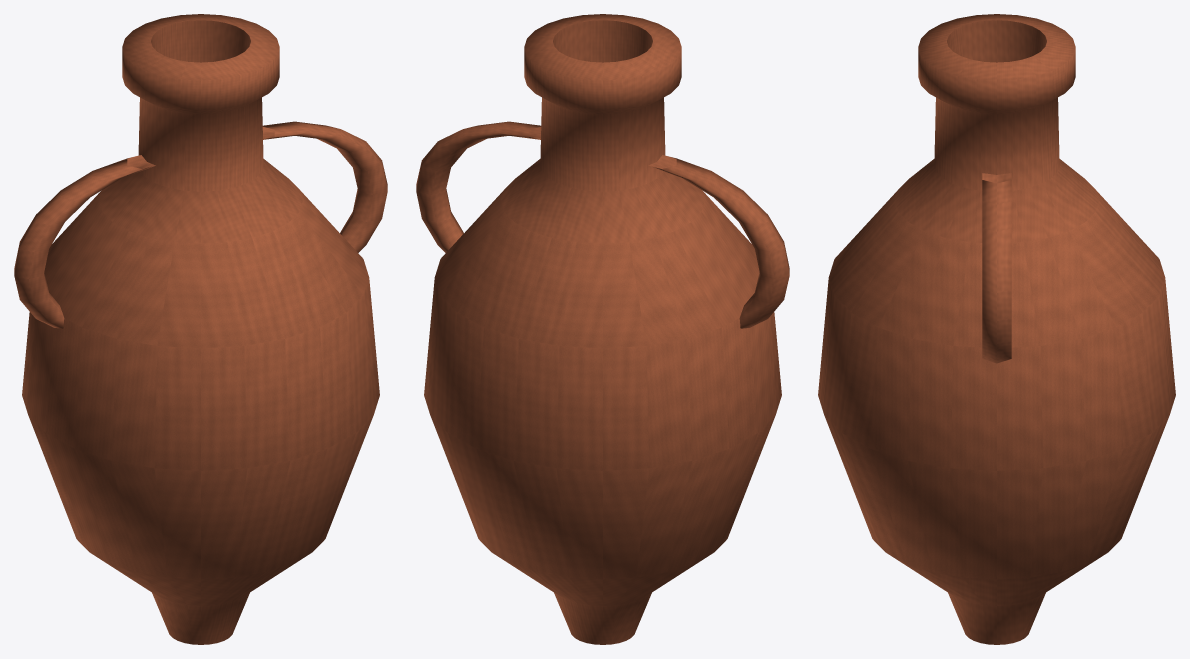
The model's file is amphora.glb.
The picture shows the model from 3 angles, left to right: view 1: azimuth 30°, elevation 25°; view 2: azimuth 150°, elevation 25°; view 3: azimuth 270°, elevation 25°; orthographic projection.
Visible parts, largest first — view 1: amphora; view 2: amphora; view 3: amphora.
Part boxes in pixels (left/top/right/bottom): amphora: left=14, top=14, right=387, bottom=644; amphora: left=416, top=14, right=789, bottom=644; amphora: left=818, top=14, right=1175, bottom=644.
Bounding box in the file's own units: 0.6625 × 1 × 0.55.
1 material, 1 textured.
